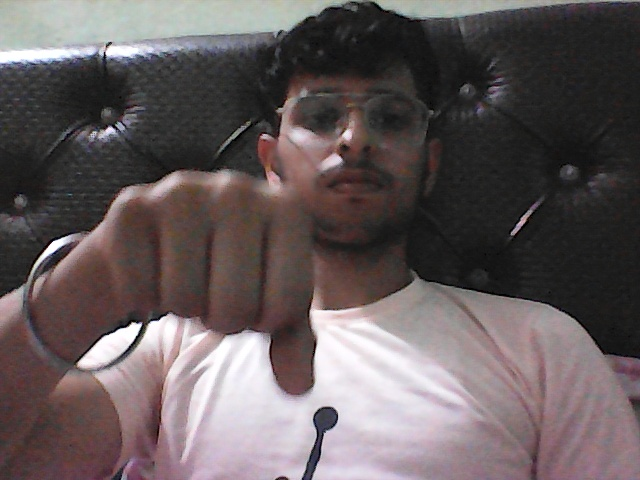yes: (87, 145, 334, 409)
